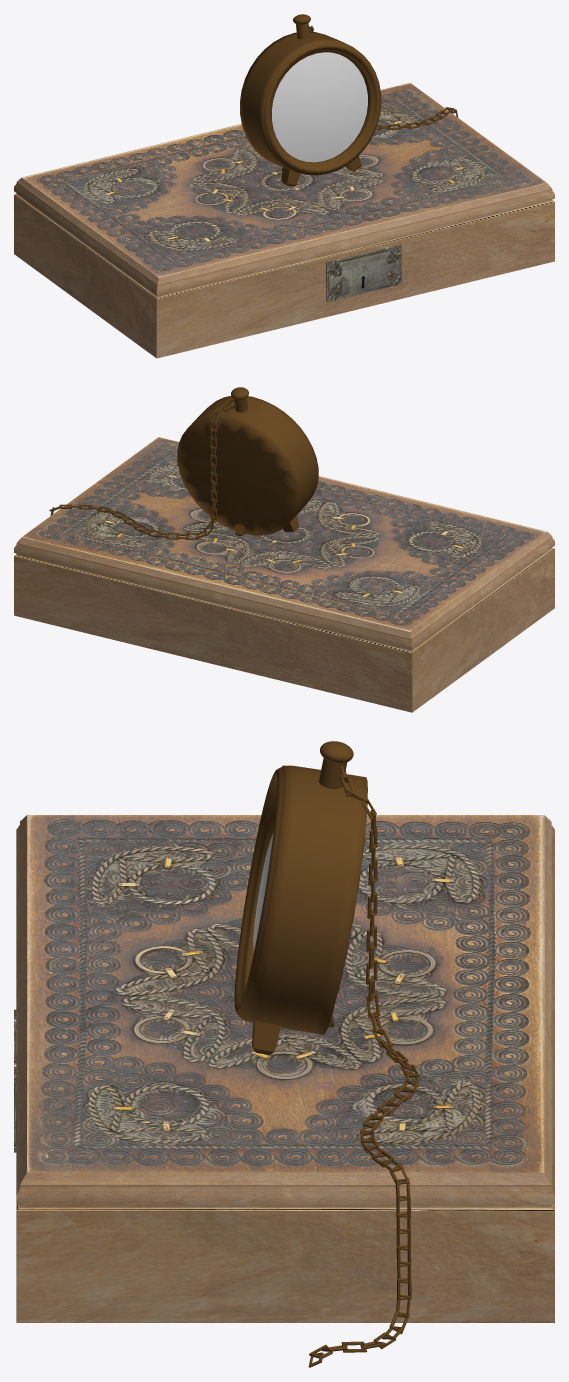
Rendered from Props_watch_box.fbx.
3 renders of one model, top to bottom at view 1: azimuth 30°, elevation 25°; view 2: azimuth 150°, elevation 25°; view 3: azimuth 270°, elevation 25°, orthographic. The views are drawn at different scales.
Visible parts, largest first — view 1: Box038.001, Box038, Cylinder020.001, Object001, Plane.002, Rectangle001; view 2: Box038, Box038.001, Cylinder020.001, Rectangle001; view 3: Box038.001, Box038, Cylinder020.001, Rectangle001.
Part boxes in pixels (x1,y1,x2,y2): Box038.001: (22, 83, 546, 277); Box038: (14, 177, 554, 358); Cylinder020.001: (240, 14, 381, 186); Object001: (271, 52, 367, 162); Plane.002: (326, 244, 401, 302); Rectangle001: (309, 26, 458, 129); Box038: (14, 532, 554, 712); Box038.001: (22, 437, 546, 631); Cylinder020.001: (177, 387, 318, 535); Rectangle001: (49, 399, 236, 539); Box038.001: (27, 815, 544, 1172); Box038: (16, 815, 554, 1322); Cylinder020.001: (234, 741, 367, 1054); Rectangle001: (308, 766, 419, 1367).
Size of the model in its own units: 27.84 by 13.41 by 15.48.
